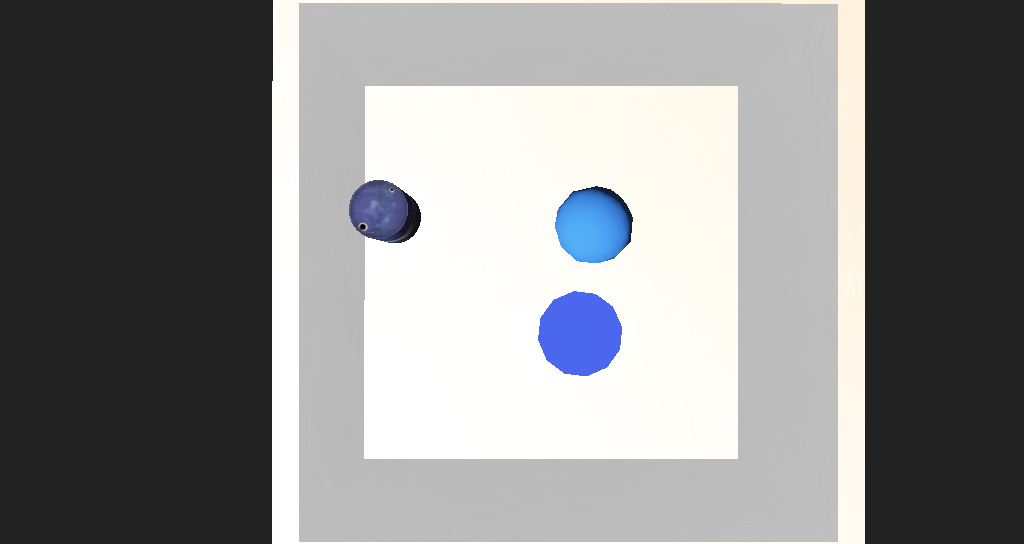cone: (344, 215, 397, 253)
cylinder: (482, 274, 569, 336)
sphere: (509, 222, 569, 265)
